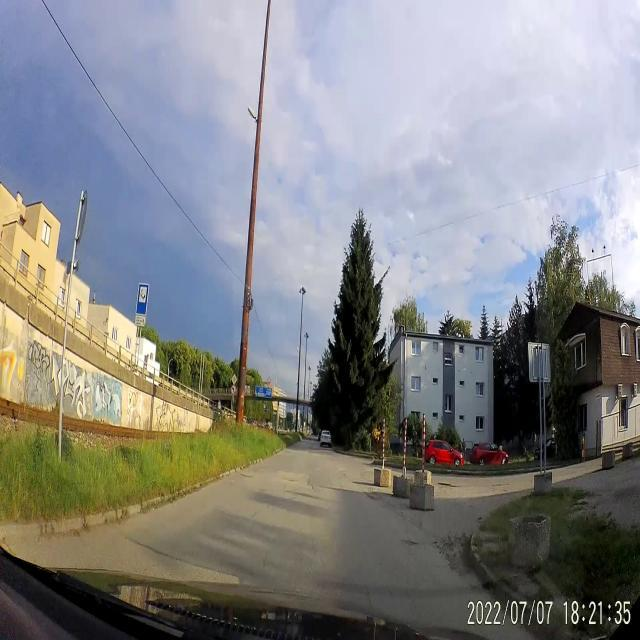Pothole: (438, 476, 464, 492)
